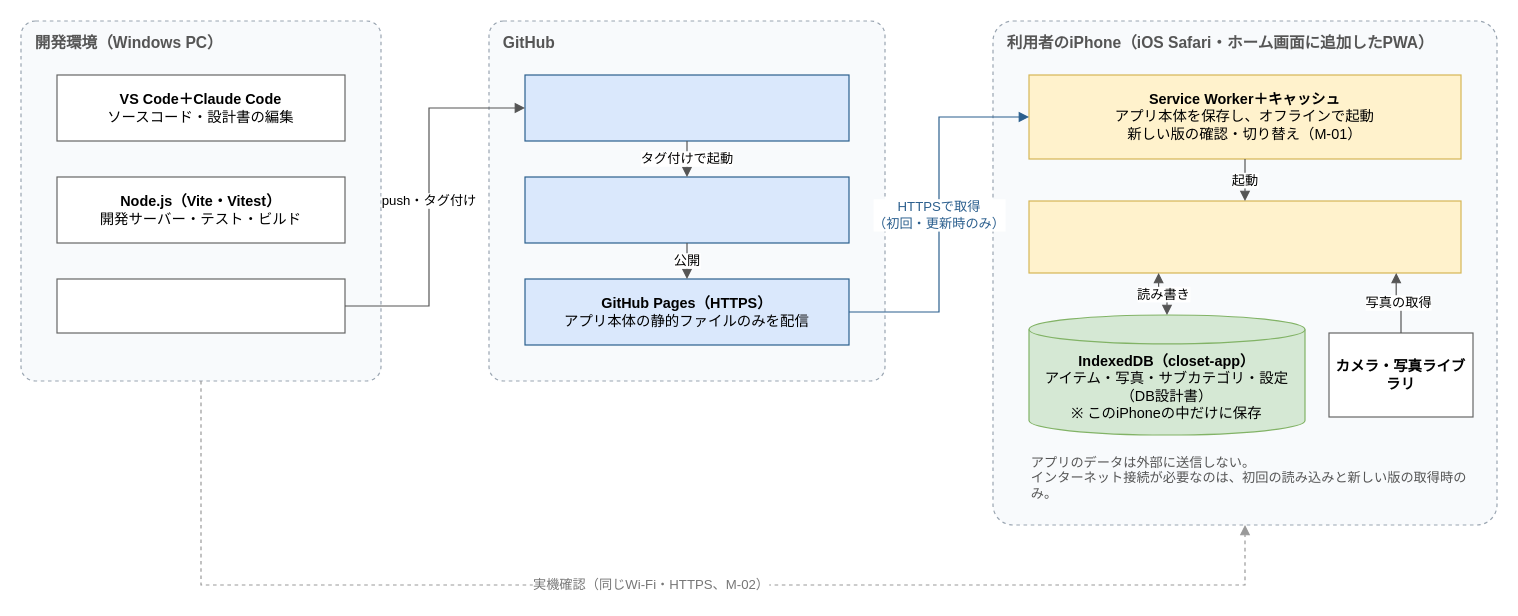
Image size: 1518x616. Some labels were removed from this diagram. Each missing label, with the centre of its shape:
GitHub Actions 検査・テスト・ビルド・公開（M-03）: point 686,209
Git（ローカルリポジトリ）: point 200,305
アプリ（React） 画面・処理（画面詳細設計書・処理設計書）: point 1244,236
リポジトリ ソースコード（app/）・設計書（docs/）: point 686,107
